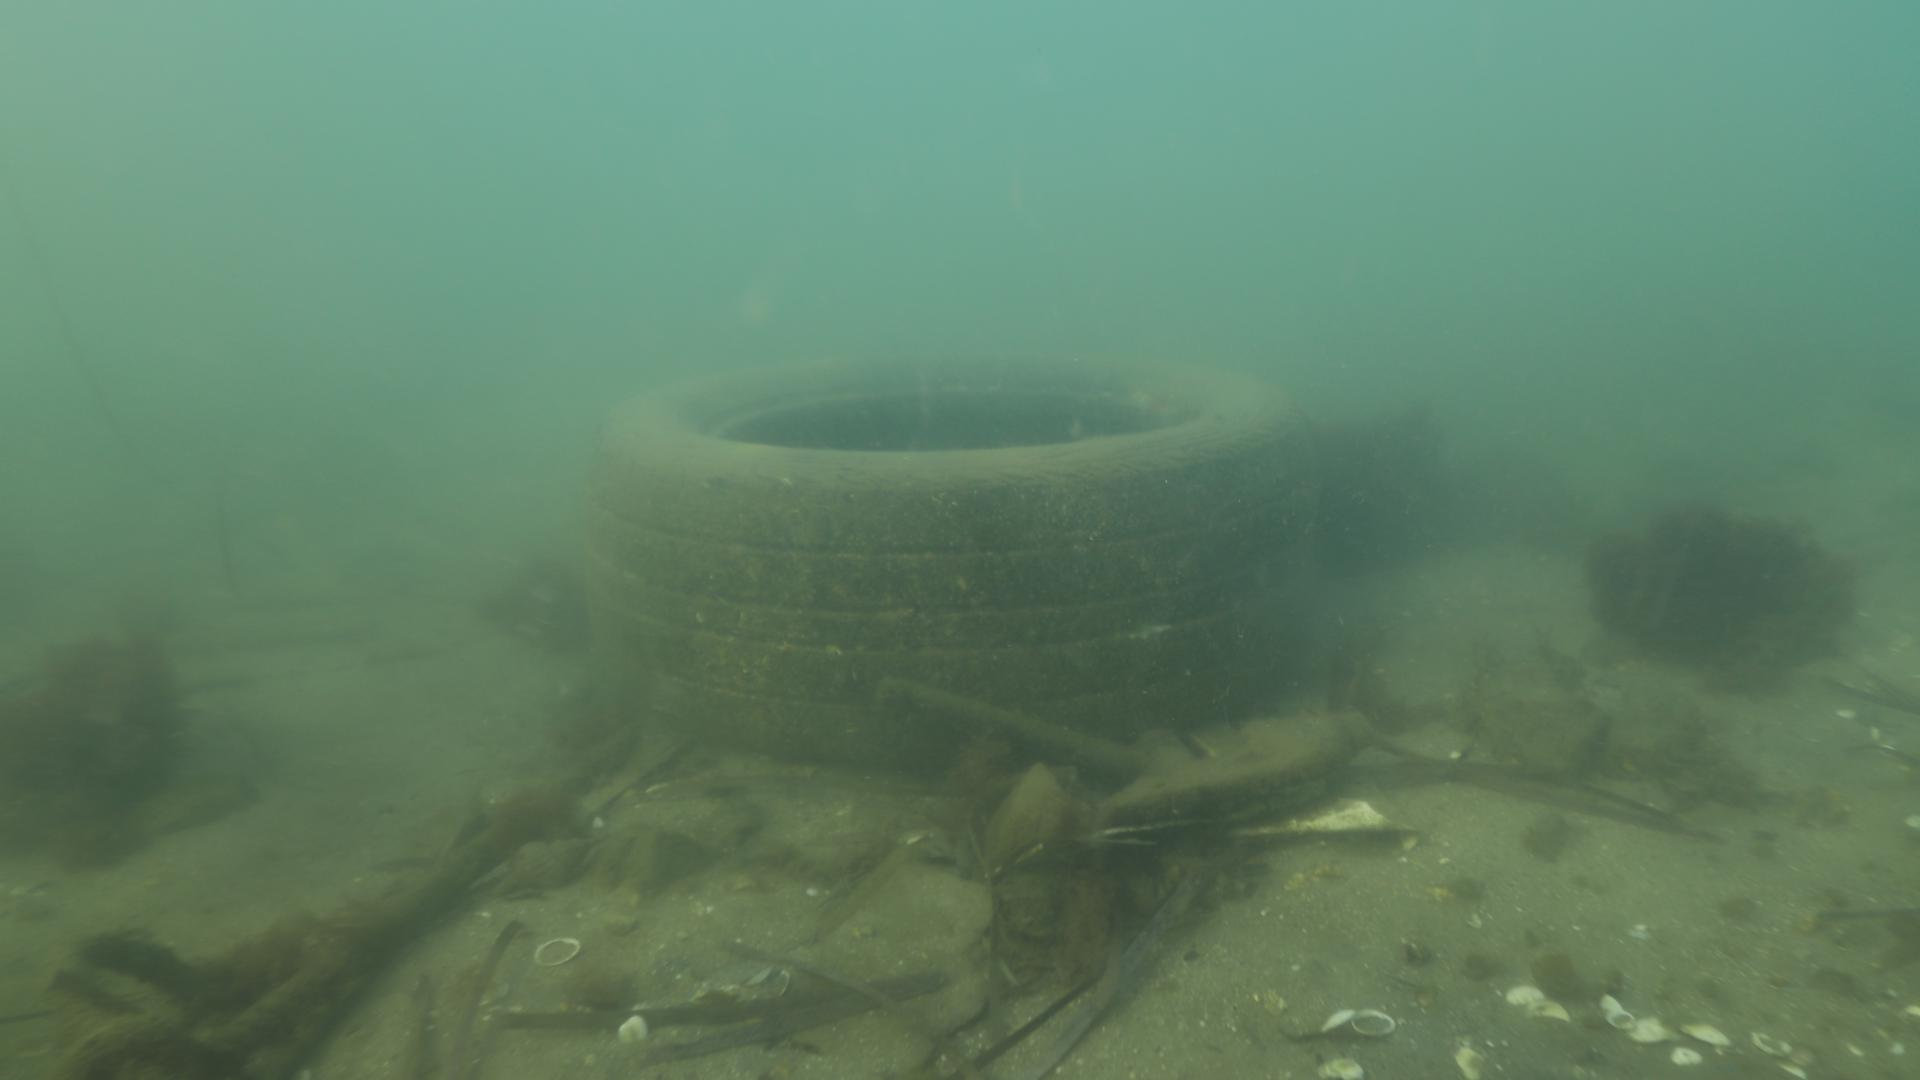tire: (588, 345, 1305, 777)
